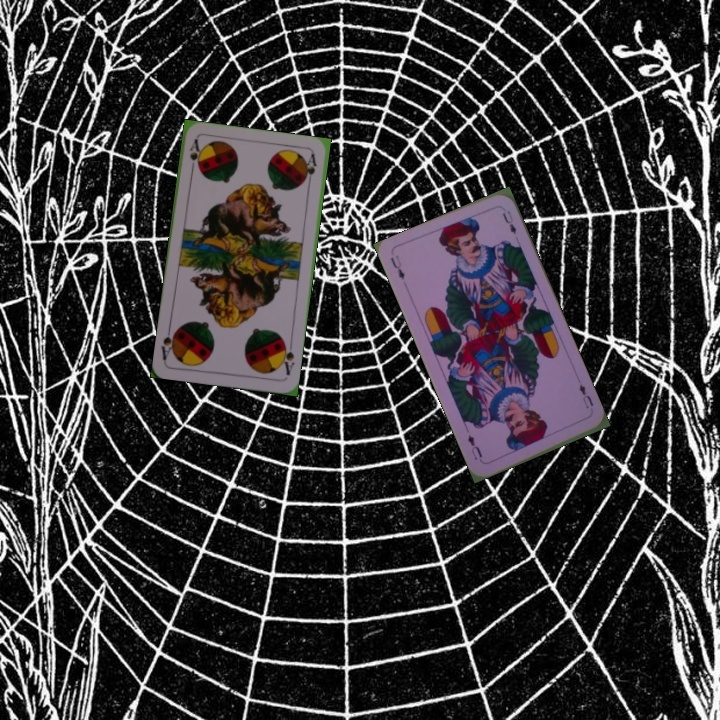EU: (575, 380, 596, 411), (386, 251, 407, 282)
SA: (277, 337, 297, 378), (185, 135, 203, 176)
